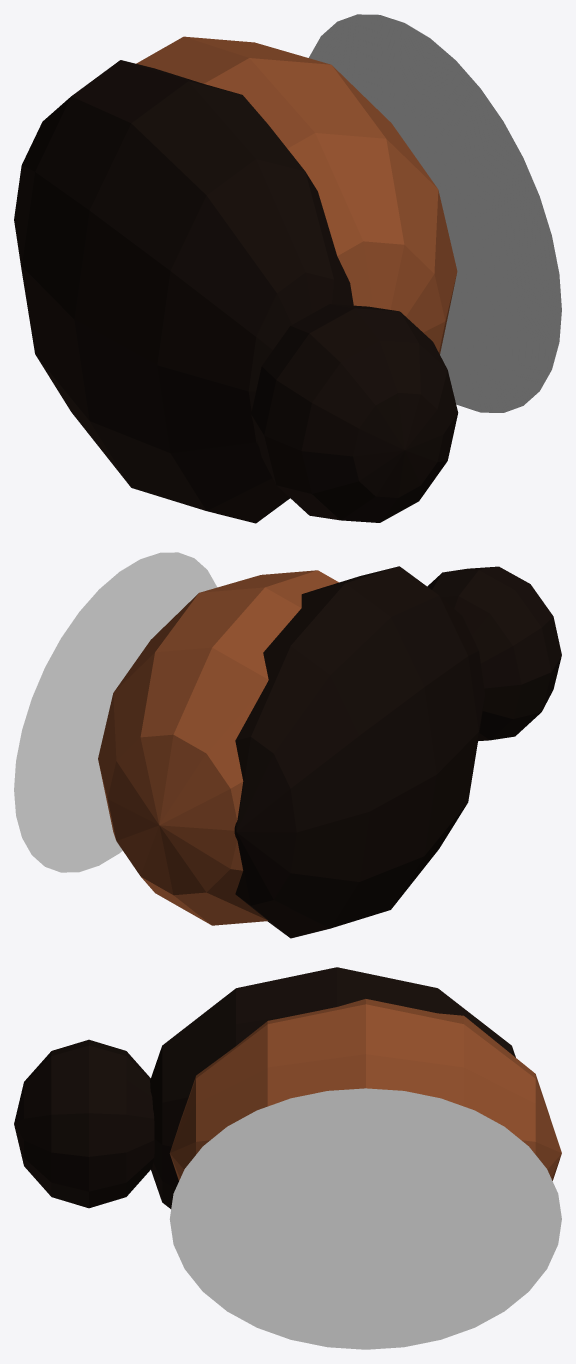
The model's file is Resident10Head.obj.
3 renders of one model, top to bottom at view 1: azimuth 30°, elevation 25°; view 2: azimuth 150°, elevation 25°; view 3: azimuth 270°, elevation 25°, orthographic. The views are drawn at different scales.
Parts seen in each view (by area): view 1: Resident10Head; view 2: Resident10Head; view 3: Resident10Head.
Part boxes in pixels (bbox=[...]): Resident10Head: bbox=[14, 14, 561, 523]; Resident10Head: bbox=[14, 552, 561, 938]; Resident10Head: bbox=[14, 967, 561, 1349].
Size of the model in its own units: 56 by 60 by 95.
